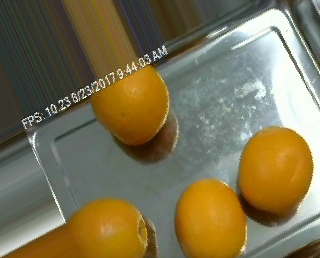Orange: (237, 124, 314, 214), (173, 176, 248, 257)
